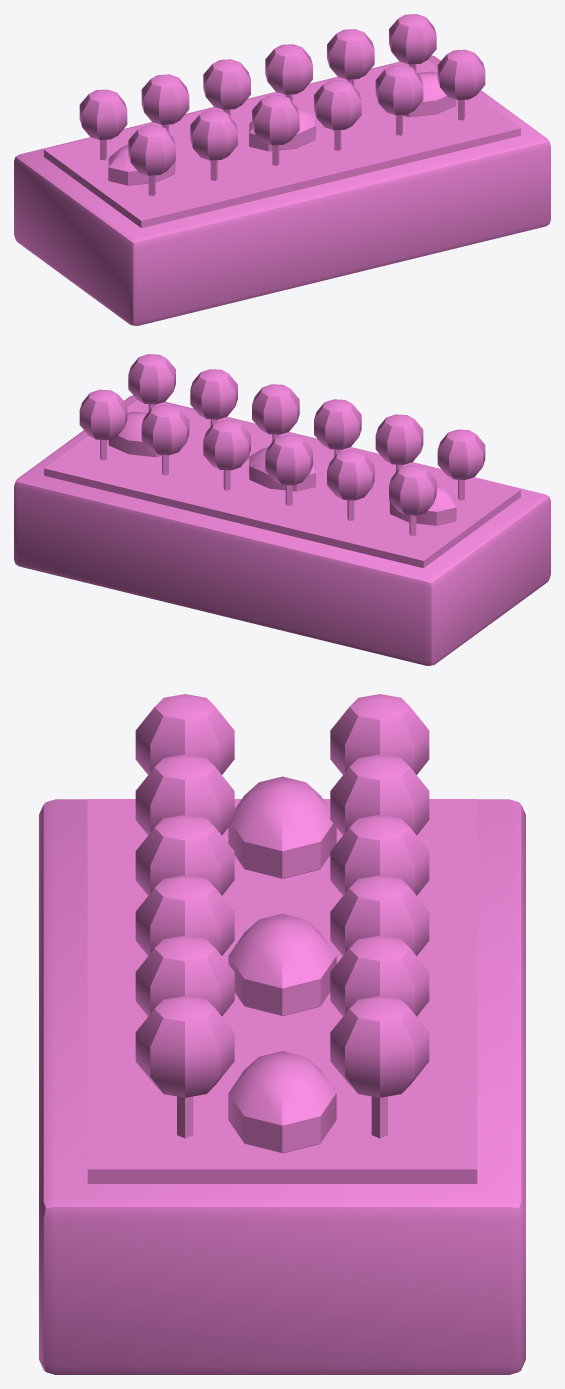
File: Street_FlowerBed.fbx
3 views of the same model, one above another, from view 1: azimuth 30°, elevation 25°; view 2: azimuth 150°, elevation 25°; view 3: azimuth 270°, elevation 25° (orthographic). The views are drawn at different scales.
Visible parts, largest first — view 1: FlowerBed; view 2: FlowerBed; view 3: FlowerBed.
Boxes of the visible parts, bbox=[...] form: FlowerBed: bbox=[14, 14, 550, 325]; FlowerBed: bbox=[14, 354, 550, 665]; FlowerBed: bbox=[39, 694, 525, 1374].
Bounding box in the file's own units: 6 × 2.22 × 3.
1 material, 1 textured.
